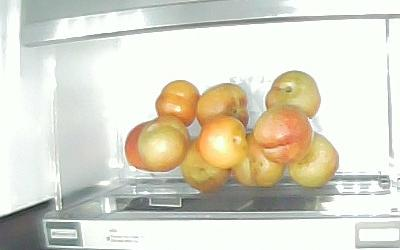prune: (254, 107, 311, 164), (137, 115, 191, 173), (233, 133, 287, 187), (288, 131, 339, 188), (265, 72, 321, 121), (198, 116, 249, 169), (181, 139, 230, 192), (195, 84, 249, 130), (155, 79, 196, 127), (125, 120, 150, 171)
